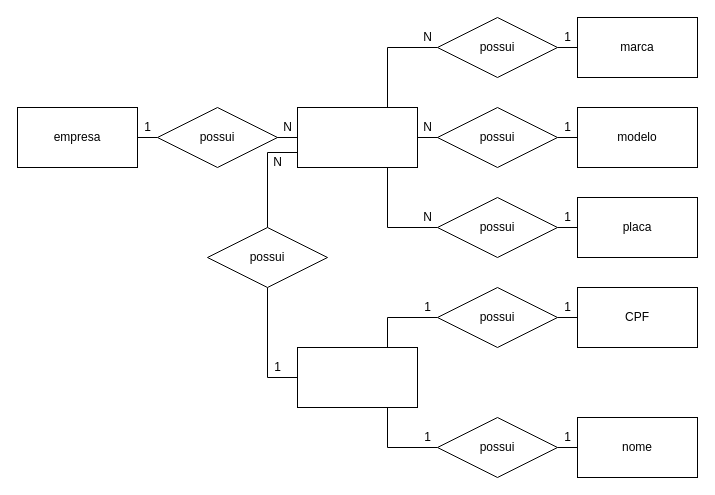
The diagram is 715 pixels wide and 495 high, and some of its shapes have lost their labels. The shapes that lost their labels are listed below. From the top down, each one's centre as x and y in pixels, then its label:
At point 357,137: "veiculo".
At point 357,377: "cliente".
